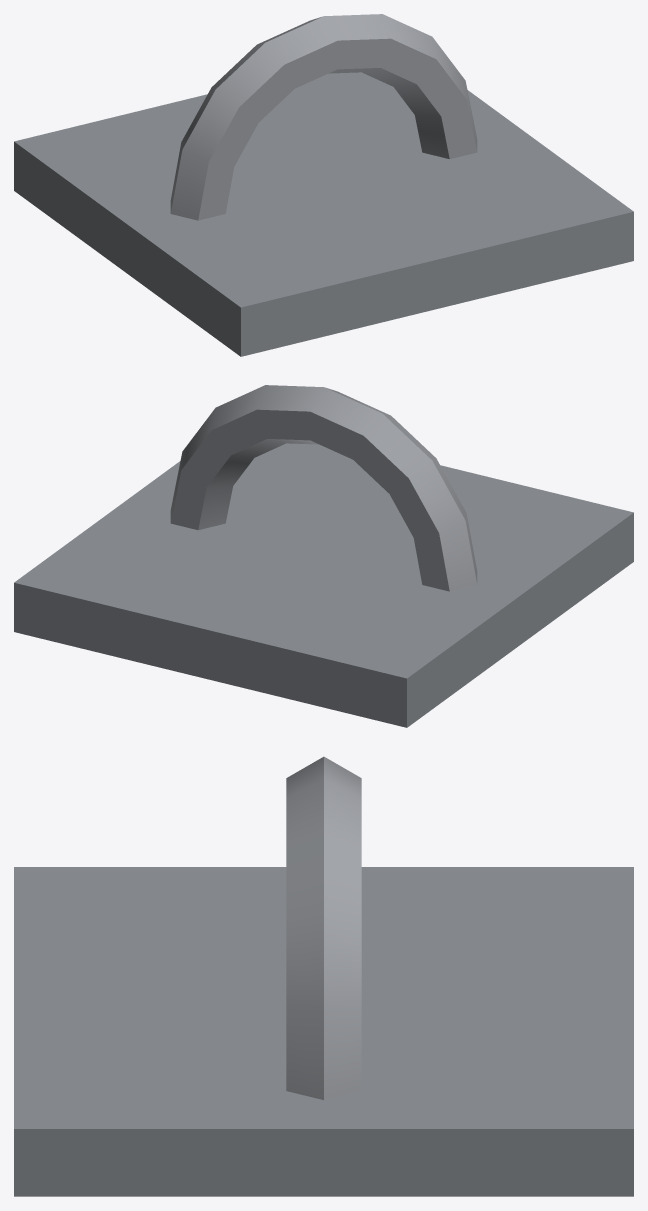
Rendered from SM_Punto_Anclaje.fbx.
3 views of the same model, one above another, from view 1: azimuth 30°, elevation 25°; view 2: azimuth 150°, elevation 25°; view 3: azimuth 270°, elevation 25° (orthographic). The views are drawn at different scales.
Visible parts, largest first — view 1: SM_Punto_Anclaje; view 2: SM_Punto_Anclaje; view 3: SM_Punto_Anclaje.
Boxes of the visible parts, bbox=[...] form: SM_Punto_Anclaje: bbox=[14, 14, 633, 356]; SM_Punto_Anclaje: bbox=[14, 385, 633, 727]; SM_Punto_Anclaje: bbox=[14, 756, 633, 1196].
Bounding box in the file's own units: 0.05 × 0.0255 × 0.05.
